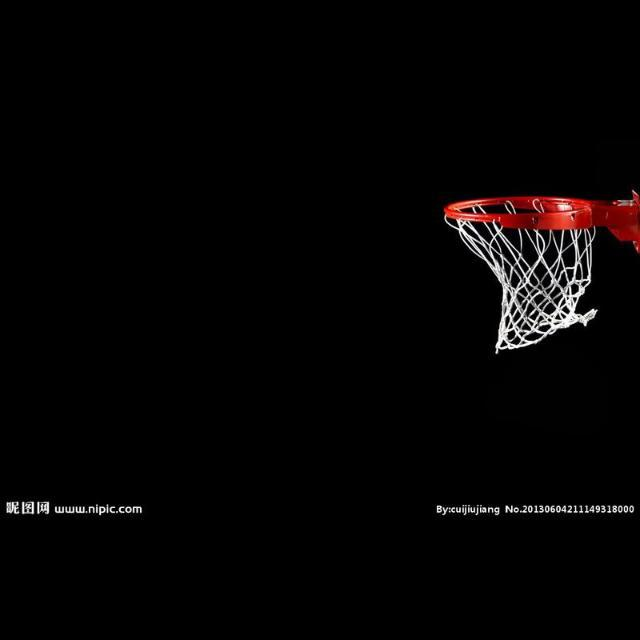rim: (444, 195, 596, 351)
